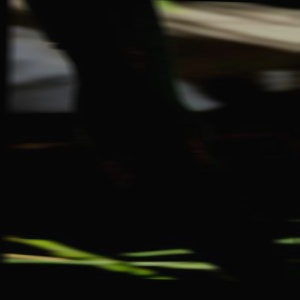Brown_Spot: (103, 20, 170, 83), (84, 141, 140, 194), (172, 117, 218, 178)
